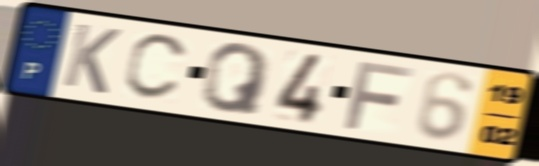4: (271, 50, 326, 127)
6: (413, 70, 475, 144)
C: (120, 33, 193, 104)
F: (341, 58, 418, 132)
K: (59, 20, 124, 97)
Q: (199, 42, 274, 118)
